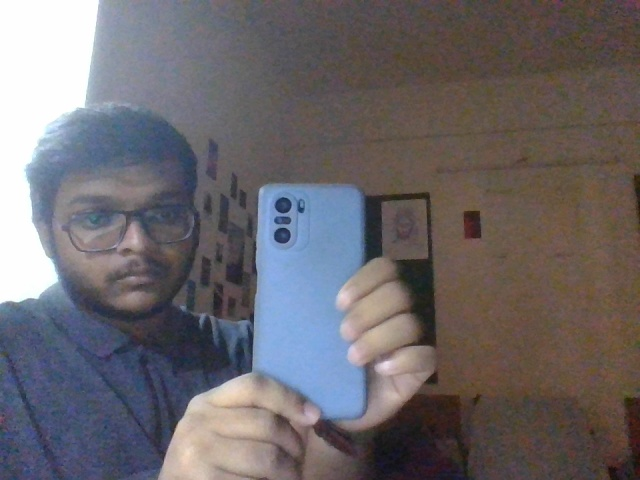Phone: (253, 182, 365, 419)
